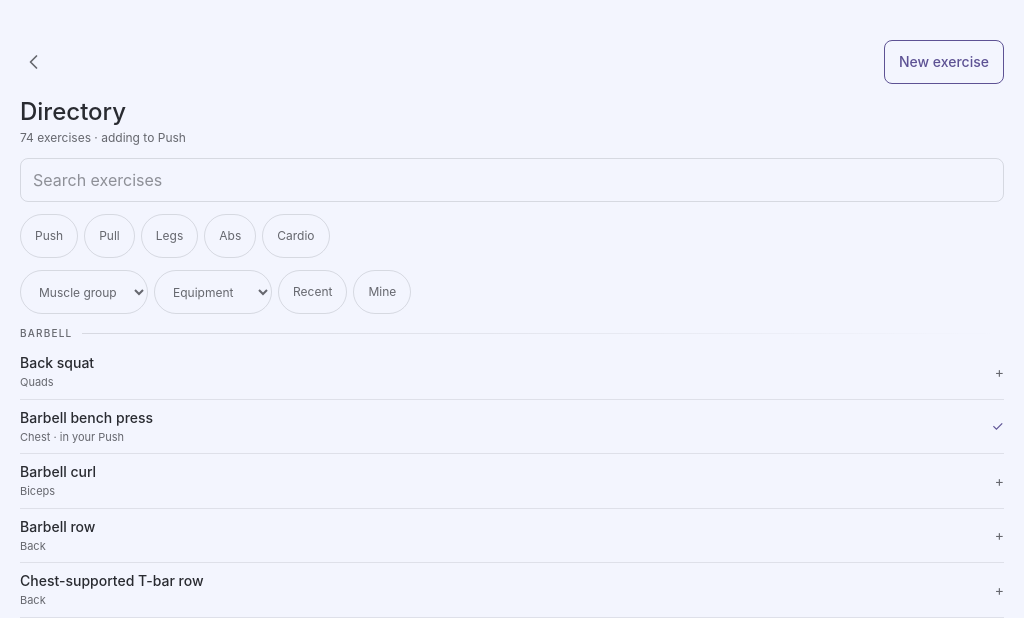
the directory › narrows by muscle group and by equipment
Expected: the heading "Directory" is shown, [20,97,126,126]
Select "Chest" in the dropdown named "Muscle group": (84, 292) [20,270,148,314]
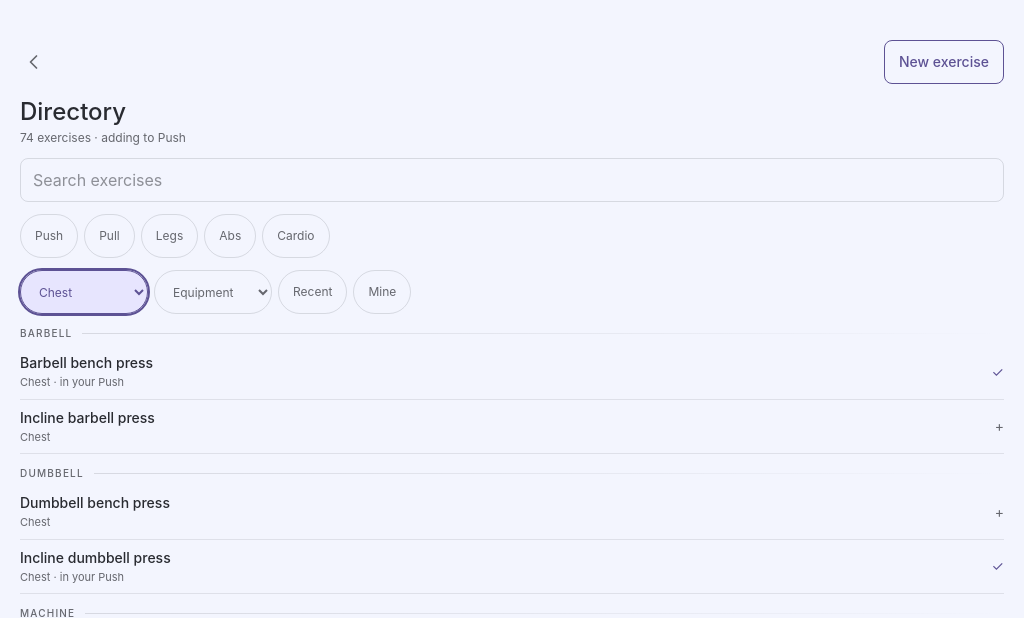
Expected: the text "Barbell bench press" is shown, [20,354,153,371]
Result: the button "Back squat" is gone
Select "Dumbbell" in the dropdown named "Equipment": (213, 292) [154,270,272,314]
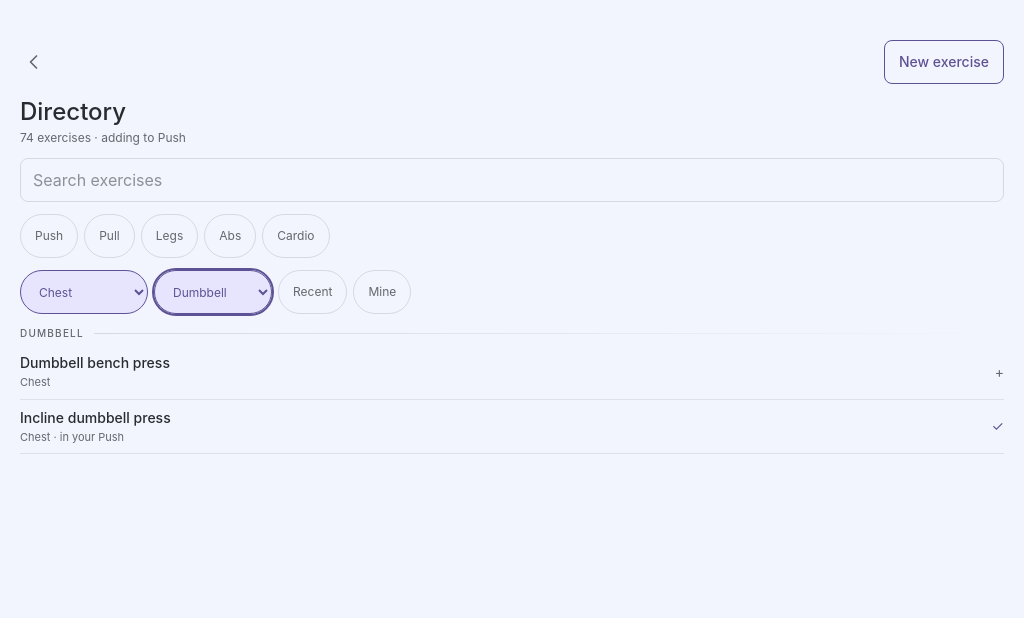
Expected: the text "Dumbbell bench press" is shown, [20,354,170,371]
Result: the button "Barbell bench press" is gone
